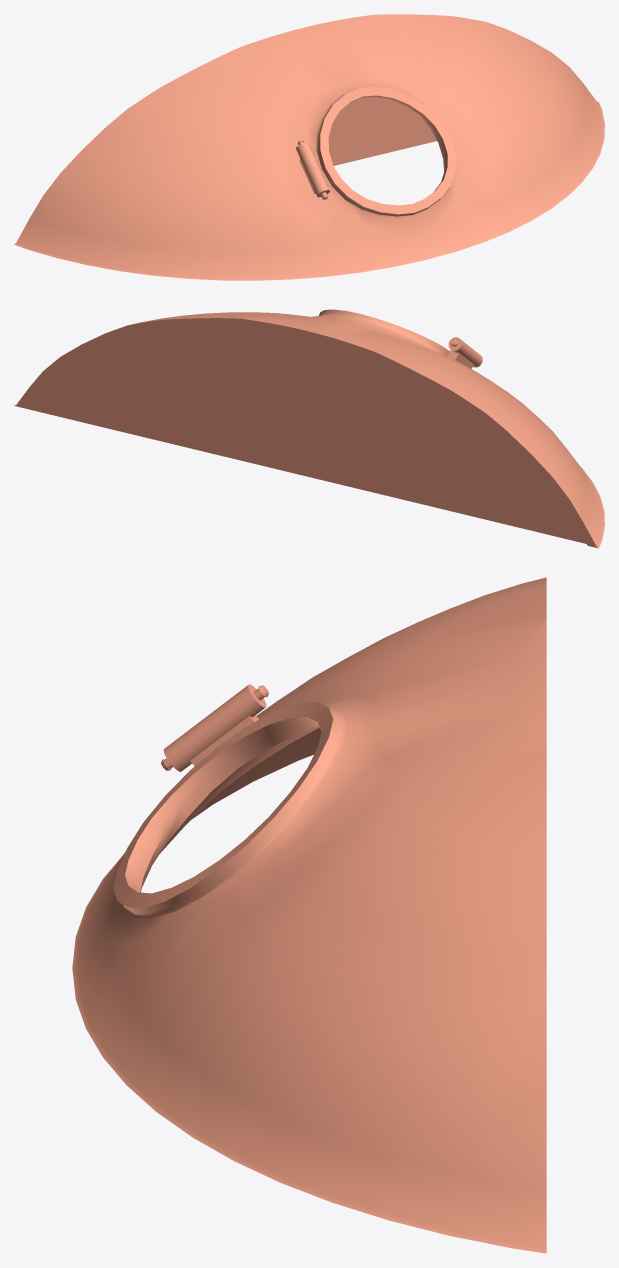
The model's file is Tank_Front.fbx.
3 views of the same model, one above another, from view 1: azimuth 30°, elevation 25°; view 2: azimuth 150°, elevation 25°; view 3: azimuth 270°, elevation 25° (orthographic). The views are drawn at different scales.
Visible parts, largest first — view 1: 02_BrewTank_Läutern.005; view 2: 02_BrewTank_Läutern.005; view 3: 02_BrewTank_Läutern.005.
Boxes of the visible parts, x1,y1,x2,y2 form: 02_BrewTank_Läutern.005: (14, 14, 604, 280); 02_BrewTank_Läutern.005: (14, 309, 604, 548); 02_BrewTank_Läutern.005: (72, 577, 546, 1253).
Size of the model in its own units: 294 by 70.25 by 103.
